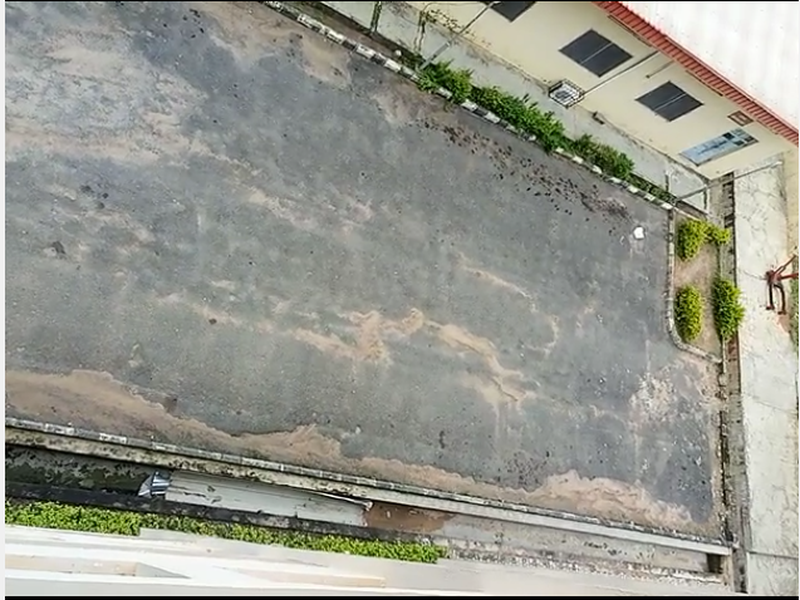five: (612, 150, 703, 342)
four: (475, 84, 567, 311)
three: (323, 23, 437, 289)
